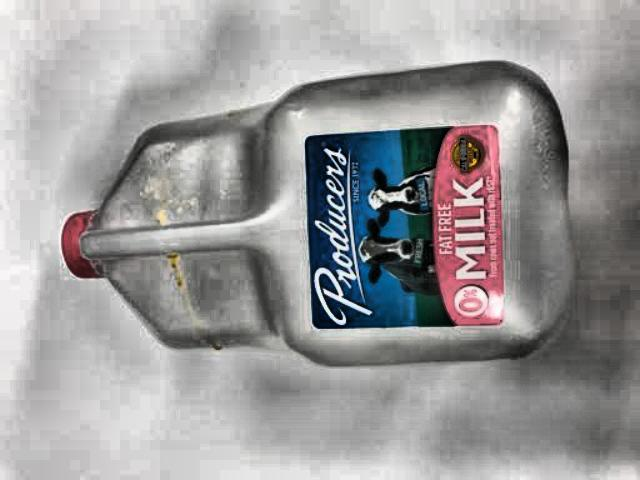Plastic: (56, 52, 575, 386)
